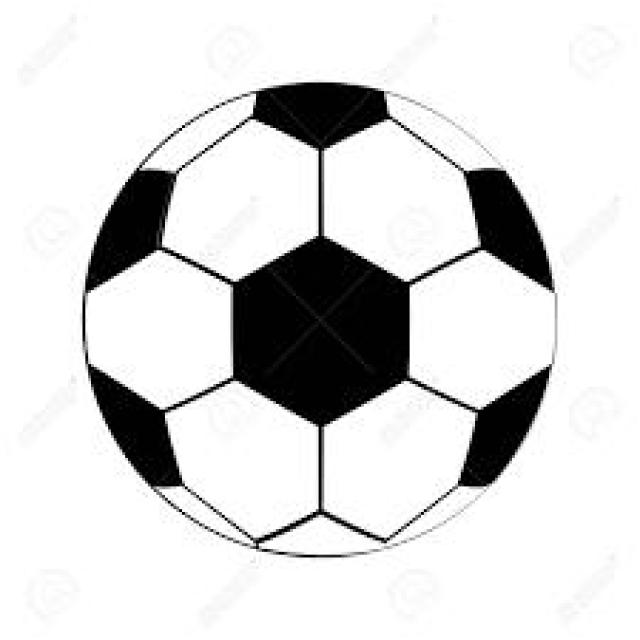Soccer Ball: (82, 77, 560, 557)
